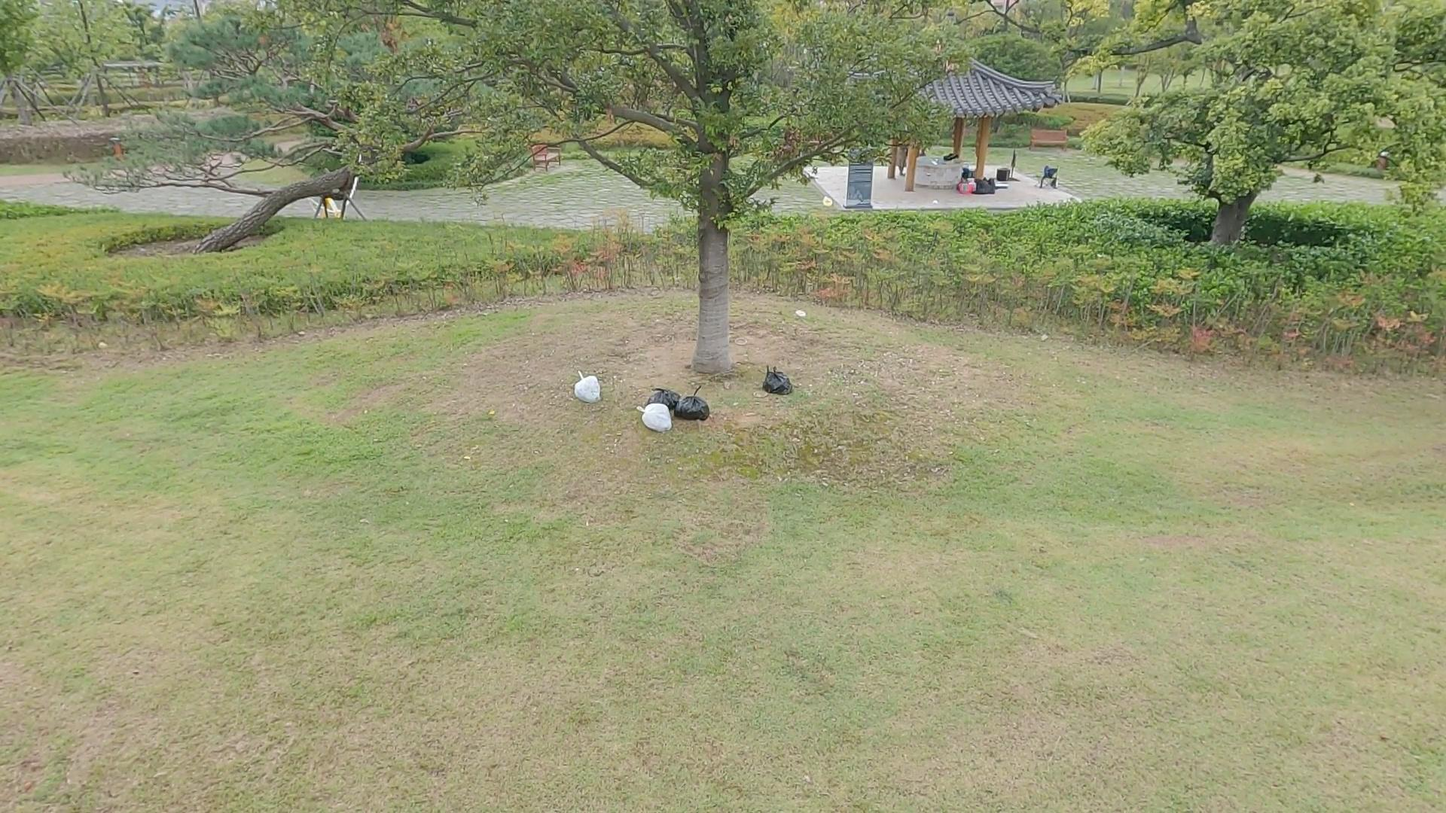trash: (754, 362, 799, 401), (673, 379, 713, 422), (631, 403, 676, 434), (573, 367, 604, 407), (645, 382, 683, 411)
